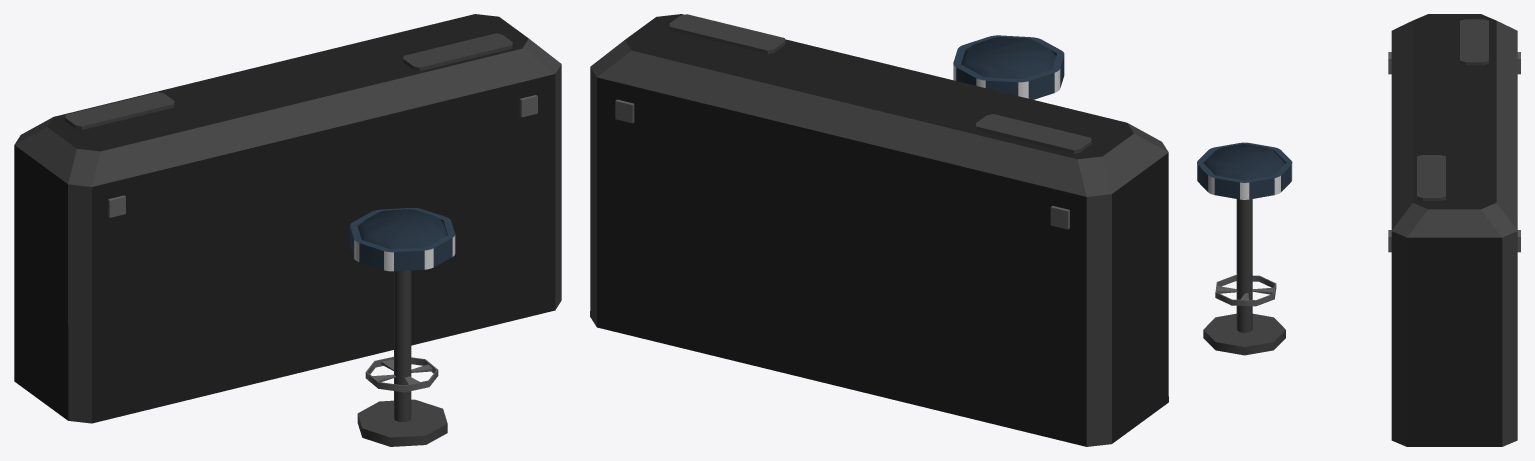
The model's file is Kitchen-Table.fbx.
3 renders of one model, left to right at view 1: azimuth 30°, elevation 25°; view 2: azimuth 150°, elevation 25°; view 3: azimuth 270°, elevation 25°, orthographic. The views are drawn at different scales.
Visible parts, largest first — view 1: Kitchen-Table, Chair-2; view 2: Kitchen-Table, Chair-2; view 3: Kitchen-Table, Chair-2.
Boxes of the visible parts, x1,y1,x2,y2 form: Kitchen-Table: (14,14,561,423); Chair-2: (350,207,455,446); Kitchen-Table: (590,14,1168,446); Chair-2: (953,35,1064,99); Kitchen-Table: (1388,14,1520,446); Chair-2: (1197,142,1292,355).
Bounding box in the file's own units: 2.8 × 1.42 × 1.8.
